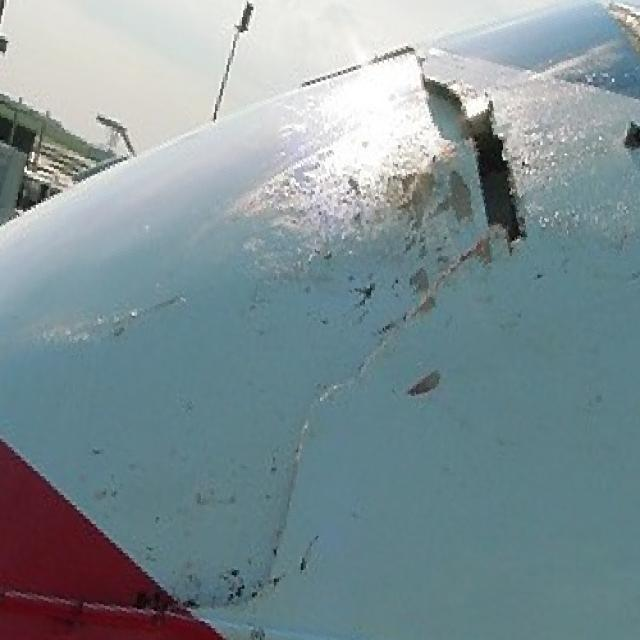crack: (419, 51, 465, 114)
